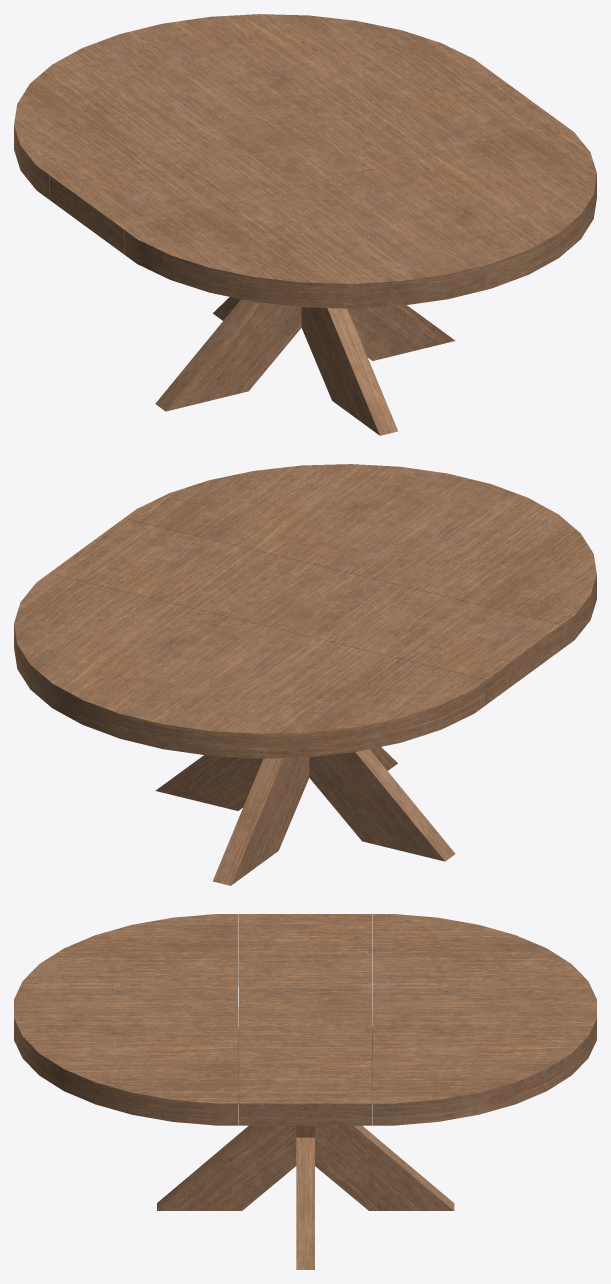
File: dining_table.glb
3 views of the same model, one above another, from view 1: azimuth 30°, elevation 25°; view 2: azimuth 150°, elevation 25°; view 3: azimuth 270°, elevation 25° (orthographic). The views are drawn at different scales.
Visible parts, largest first — view 1: table_all.001_table_bake_0; view 2: table_all.001_table_bake_0; view 3: table_all.001_table_bake_0.
Part boxes in pixels (x1,y1,x2,y2): table_all.001_table_bake_0: (14, 14, 596, 435); table_all.001_table_bake_0: (14, 464, 596, 885); table_all.001_table_bake_0: (14, 914, 596, 1269).
Bounding box in the file's own units: 1.52 × 0.7435 × 1.98.
Materials: 1 (1 with a texture image).
